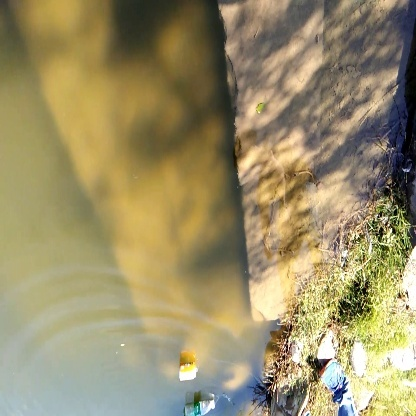bottle: (175, 358, 202, 382)
